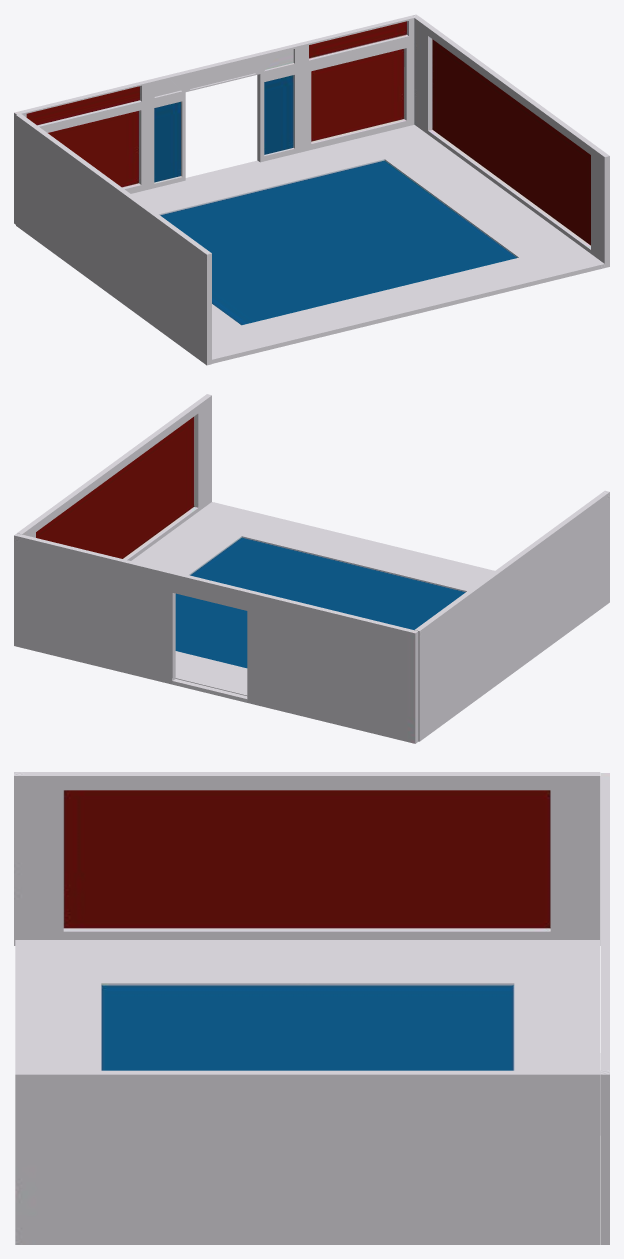
Rendered from ATO1-1.fbx.
3 renders of one model, top to bottom at view 1: azimuth 30°, elevation 25°; view 2: azimuth 150°, elevation 25°; view 3: azimuth 270°, elevation 25°, orthographic. The views are drawn at different scales.
Visible parts, largest first — view 1: PAREDE_R1; view 2: PAREDE_R1; view 3: PAREDE_R1.
Part boxes in pixels (left/top/right/bottom): PAREDE_R1: left=14, top=14, right=609, bottom=365; PAREDE_R1: left=14, top=394, right=609, bottom=743; PAREDE_R1: left=14, top=772, right=609, bottom=1244.
Size of the model in its own units: 29.29 by 7.7 by 24.38.
Materials: 1 (1 with a texture image).
